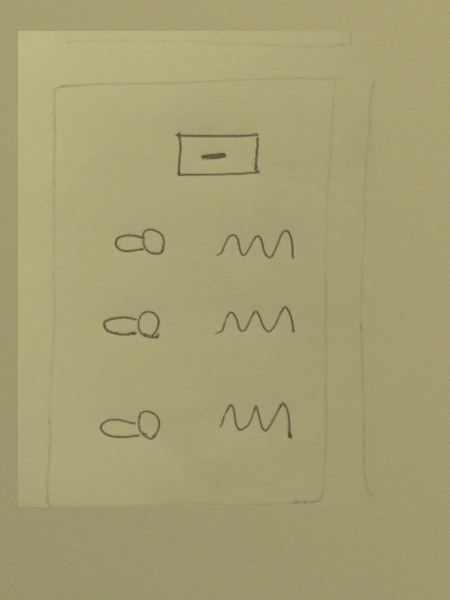button: (167, 125, 271, 187)
switch: (102, 219, 179, 269), (94, 401, 166, 453), (98, 304, 169, 348)
text: (206, 392, 303, 448), (203, 219, 303, 266), (206, 298, 303, 346)
